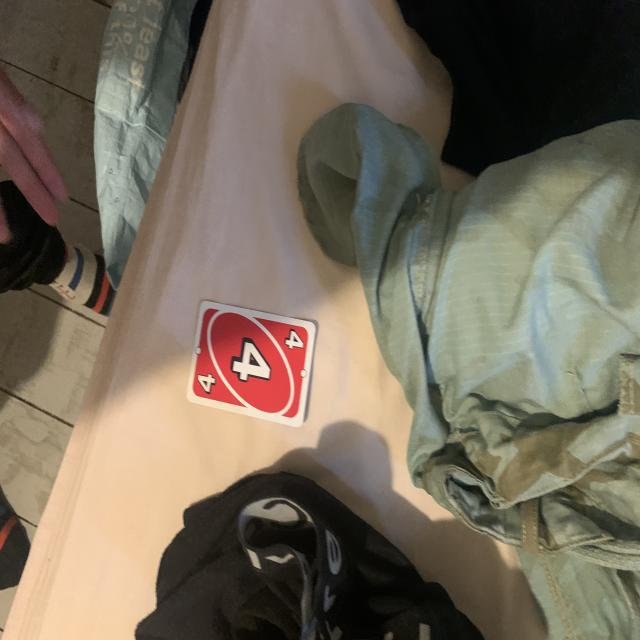lred-4: (194, 368, 222, 400)
